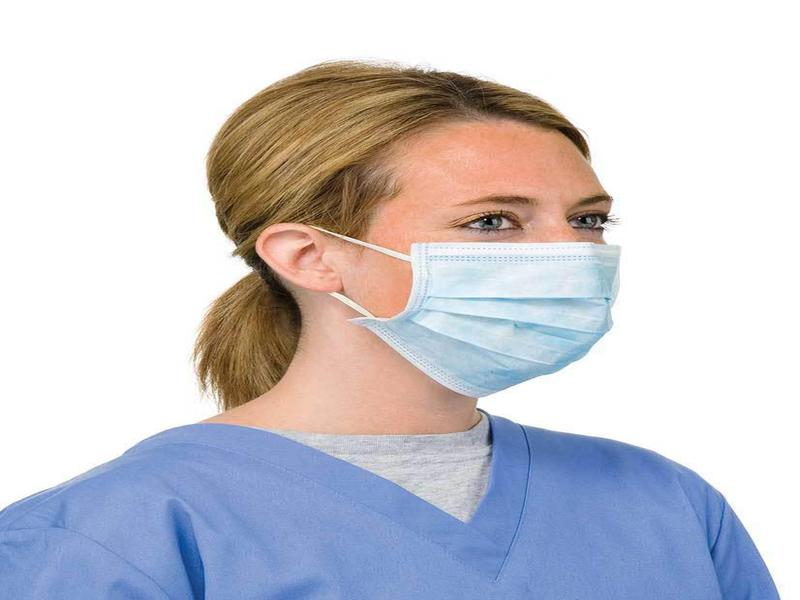with_mask: (204, 61, 624, 400)
